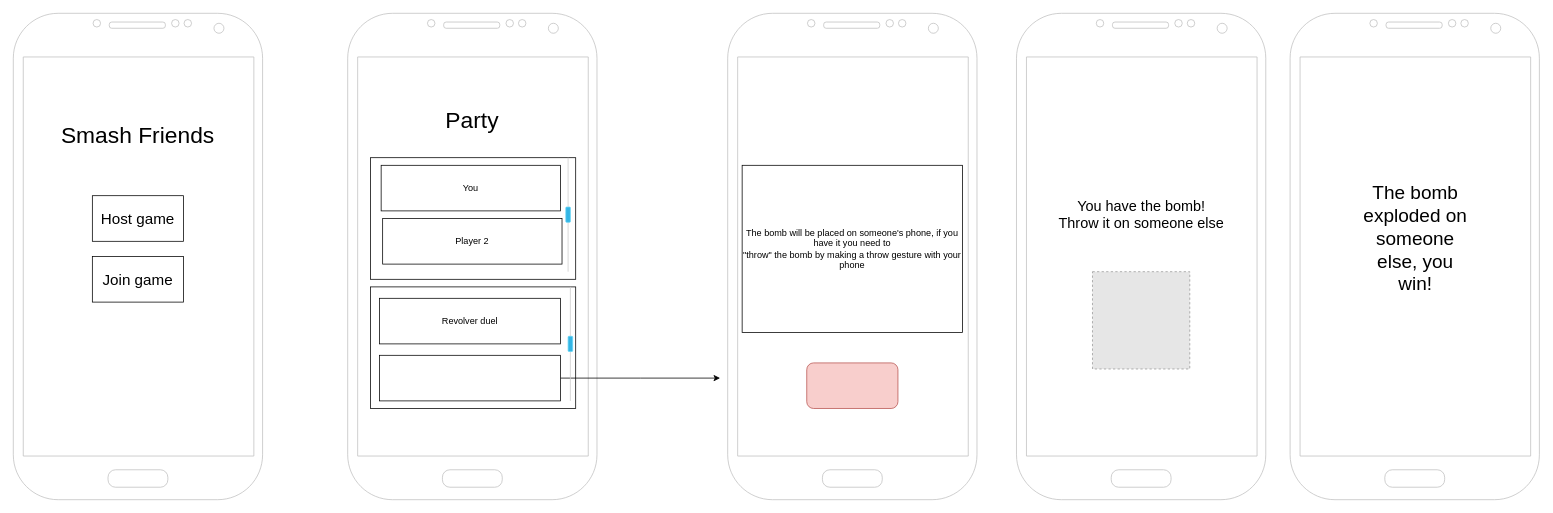
This 1553x513 diagram has some shape labels left out. Grey dashed boxes stand in for pictures. The shapes that lost their labels are listed below. From the top down, each one's centre as x and y in pixels, then its label:
At [469,378]: "Bomb party".
At [852,385]: "READY?".
